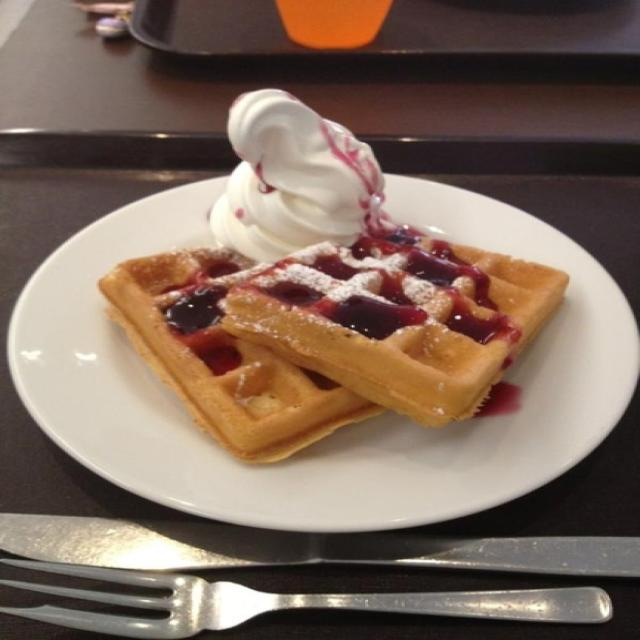汤锅炖物: (300, 36, 446, 292)
